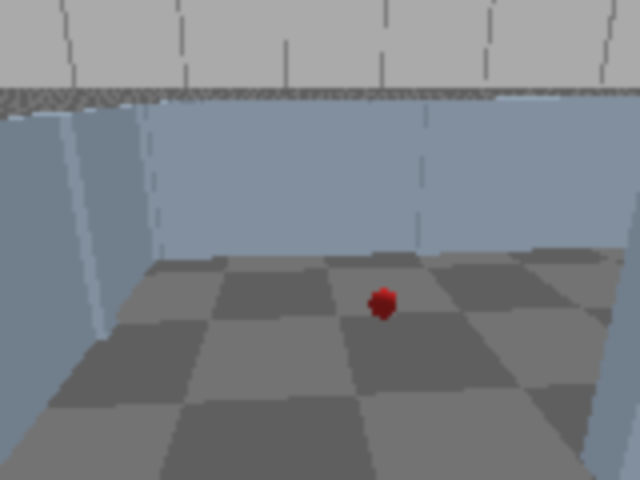puck: (363, 283, 405, 326)
